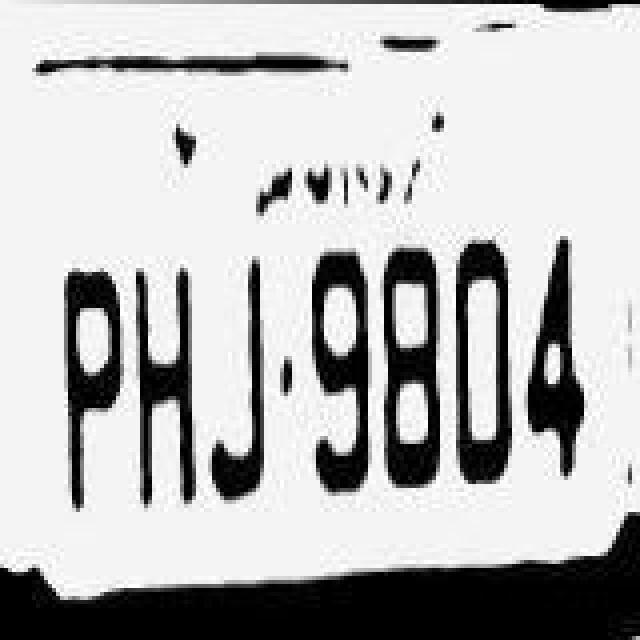4: (518, 224, 594, 488)
8: (372, 234, 444, 506)
9: (300, 234, 372, 514)
H: (130, 256, 206, 528)
J: (204, 254, 276, 518)
O: (446, 216, 514, 492)
P: (48, 274, 128, 542)
